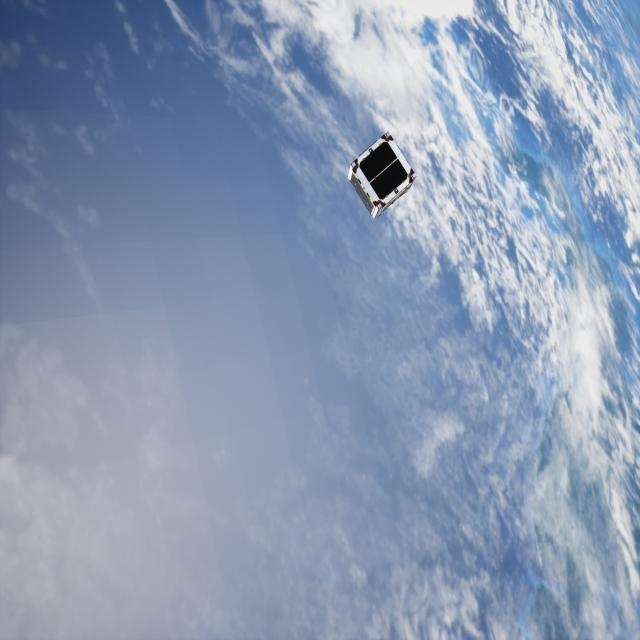medium_debris: (339, 131, 418, 218)
